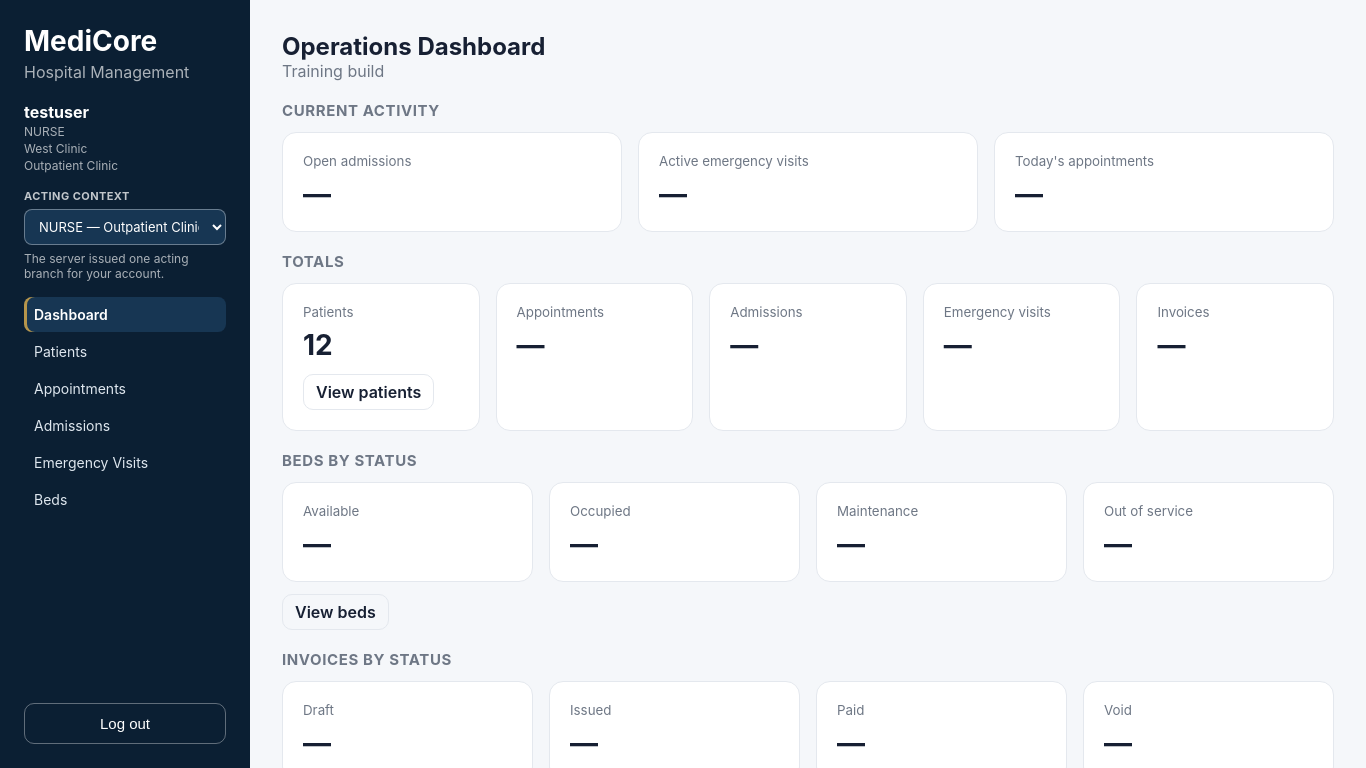
Test case: AppShell › opens the beds screen for a clinical-administrative role and loads its list once
The width and height of the screenshot is (1366, 768).
expect the text "Patients" is shown: met, box [303,304,354,320]
expect the text "12" is shown: met, box [303,328,333,362]
What coordinates should you click on to do the following:
click the button "Beds"
I would click on:
 (125, 500)
Its box is [24,482,226,517].
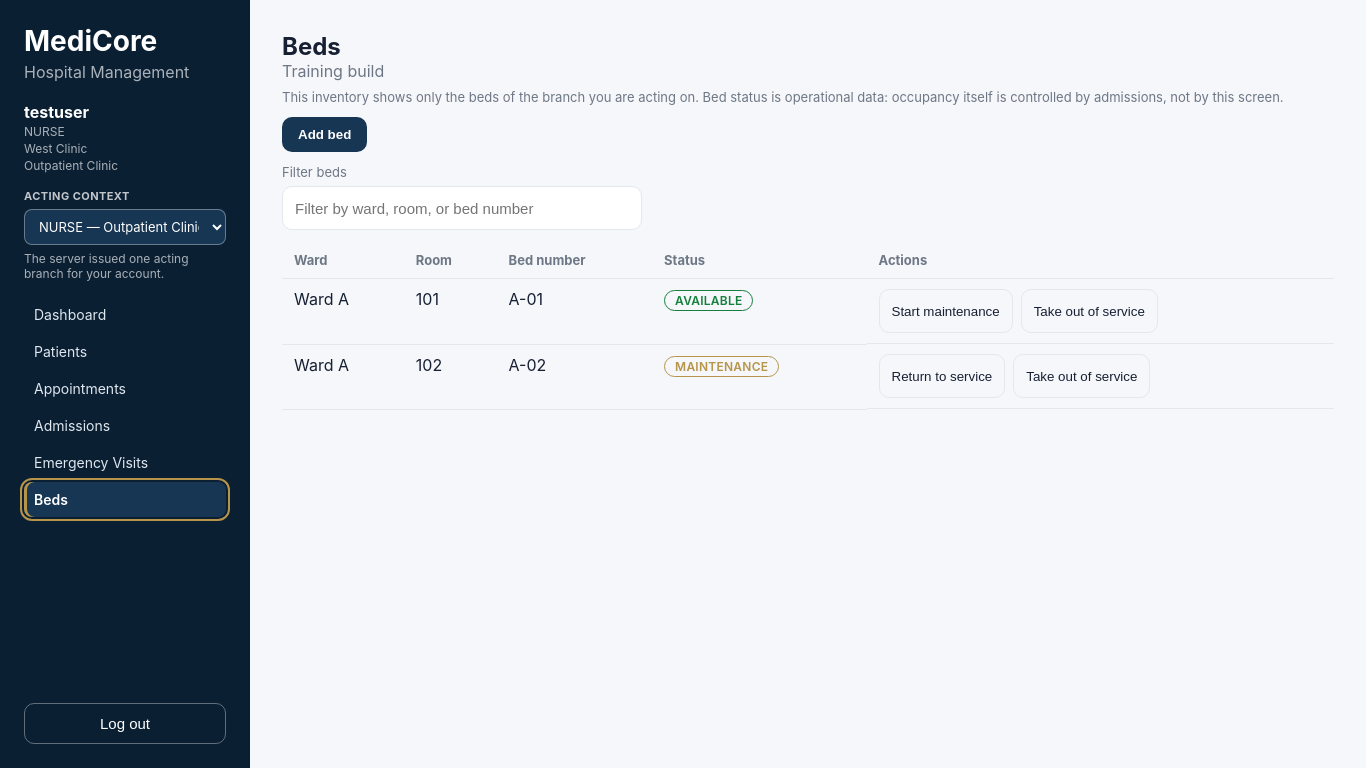
expect the heading "Beds" is shown: met, box [282,32,341,61]
expect the number of rows is 3: met, box [282,242,1334,278]; [282,278,1334,344]; [282,344,1334,409]
expect the text "MAINTENANCE" is shown: met, box [664,356,779,376]
